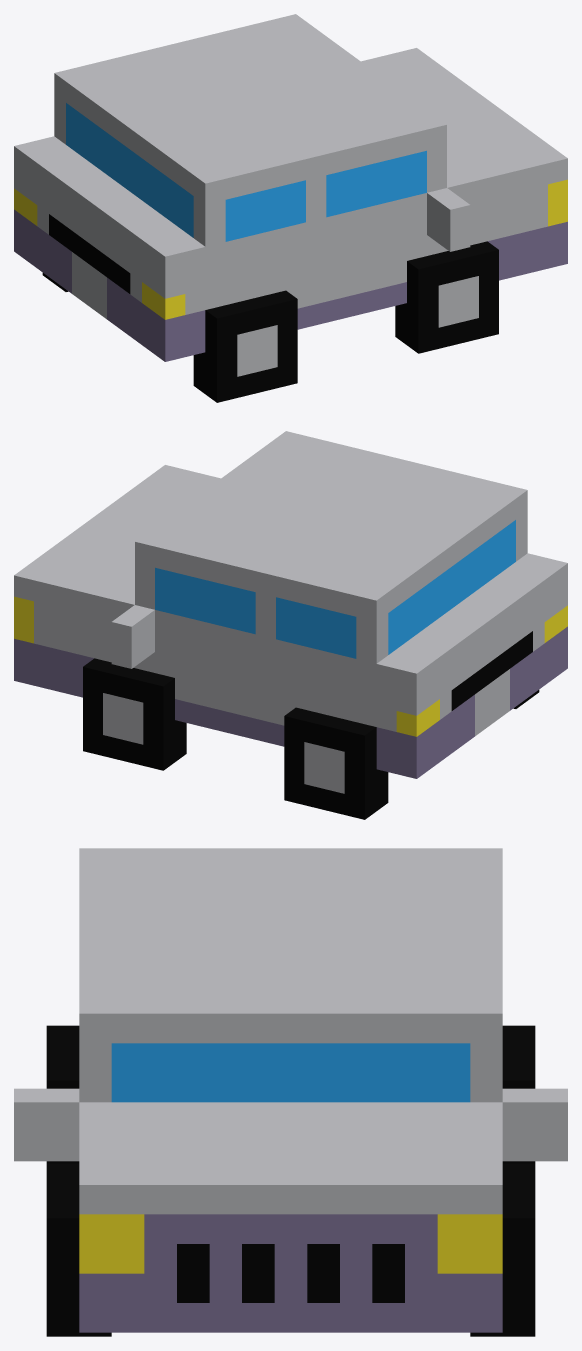
File: car_d.obj
3 views of the same model, one above another, from view 1: azimuth 30°, elevation 25°; view 2: azimuth 150°, elevation 25°; view 3: azimuth 270°, elevation 25° (orthographic). The views are drawn at different scales.
Size of the model in its own units: 2 by 1 by 1.7.
Materials: 1 (1 with a texture image).
